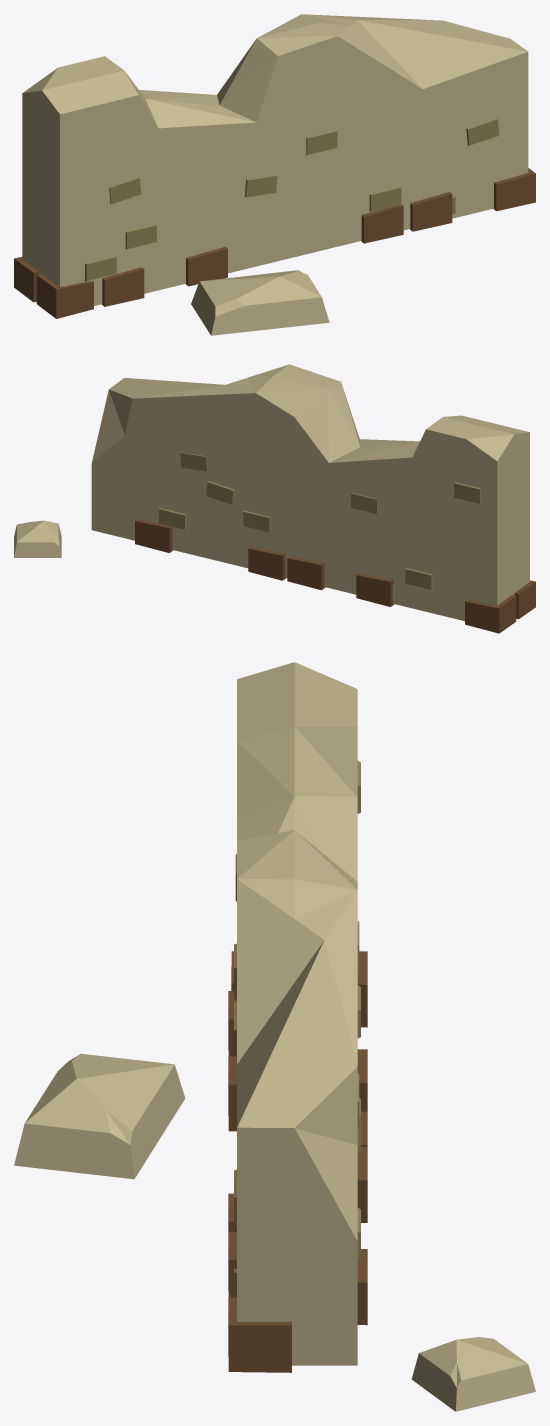
Rendered from Building_DesertHouse_Debris_0.FBX.
The picture shows the model from 3 angles, top to bottom: view 1: azimuth 30°, elevation 25°; view 2: azimuth 150°, elevation 25°; view 3: azimuth 270°, elevation 25°; orthographic projection. The views are drawn at different scales.
Parts seen in each view (by area): view 1: Object009; view 2: Object009; view 3: Object009.
Part boxes in pixels (x1,y1,x2,y2): Object009: (14, 14, 535, 335); Object009: (14, 364, 535, 633); Object009: (14, 662, 535, 1411).
Bounding box in the file's own units: 558 × 217 × 296.
